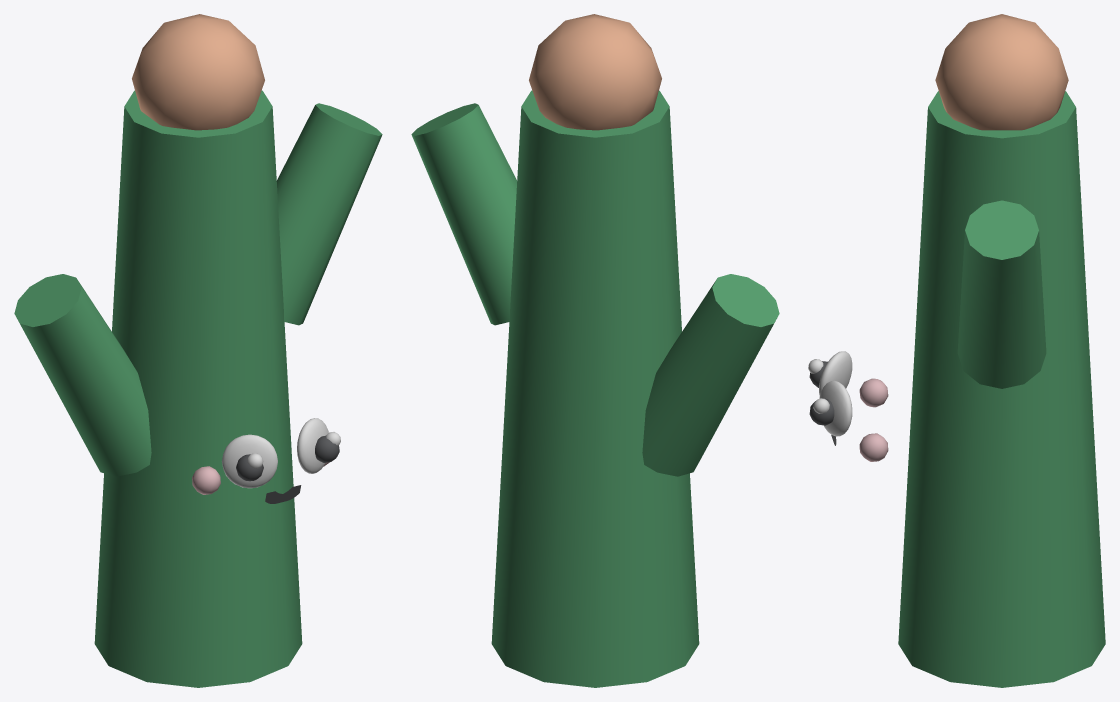
File: mammillaria-geminispina.glb
The picture shows the model from 3 angles, left to right: view 1: azimuth 30°, elevation 25°; view 2: azimuth 150°, elevation 25°; view 3: azimuth 270°, elevation 25°; orthographic projection.
Visible parts, largest first — view 1: column, arm0, arm1, bloom, pface-eye-r, pface-eye-l, pface-blush--1; view 2: column, arm0, arm1, bloom; view 3: column, arm1, bloom, pface-eye-l, pface-eye-r, pface-blush-1, pface-blush--1.
Part boxes in pixels (x1,y1,x2,y2): column: [94, 90, 302, 687]; arm0: [14, 274, 151, 476]; arm1: [276, 103, 382, 325]; bloom: [132, 14, 264, 130]; pface-eye-r: [222, 434, 277, 488]; pface-eye-l: [297, 418, 328, 473]; pface-blush--1: [192, 466, 220, 494]; column: [491, 90, 699, 687]; arm0: [642, 274, 779, 476]; arm1: [411, 103, 517, 325]; bloom: [529, 14, 661, 130]; column: [898, 91, 1105, 687]; arm1: [957, 200, 1046, 388]; bloom: [935, 14, 1068, 130]; pface-eye-l: [819, 380, 852, 436]; pface-eye-r: [819, 351, 852, 396]; pface-blush-1: [859, 433, 888, 461]; pface-blush--1: [859, 378, 888, 407].
Bounding box in the file's own units: 0.2781 × 0.465 × 0.2008.
